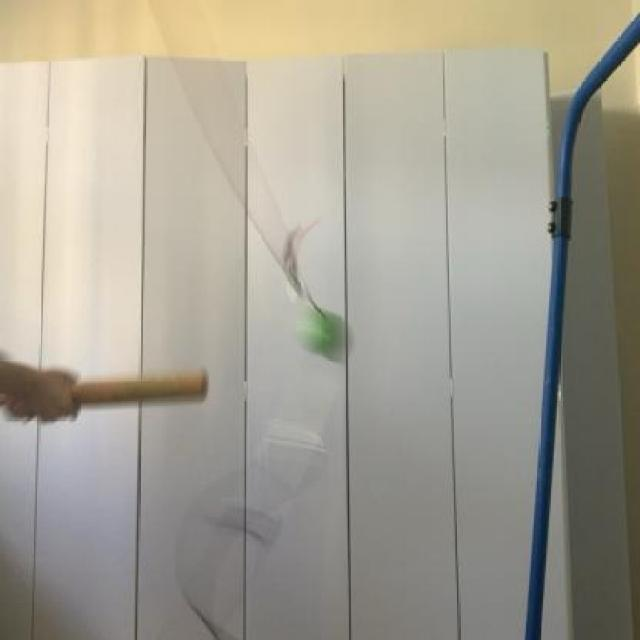baseball: (288, 292, 349, 362)
